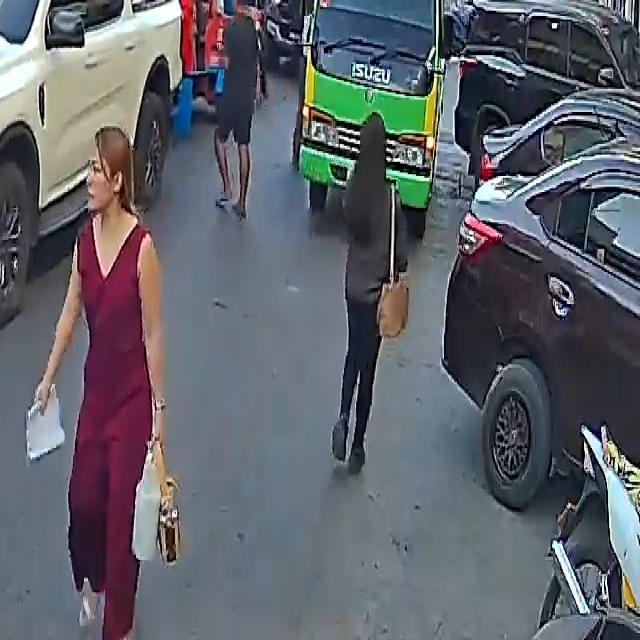car: (444, 86, 640, 524), (0, 0, 212, 324), (460, 0, 638, 156)
